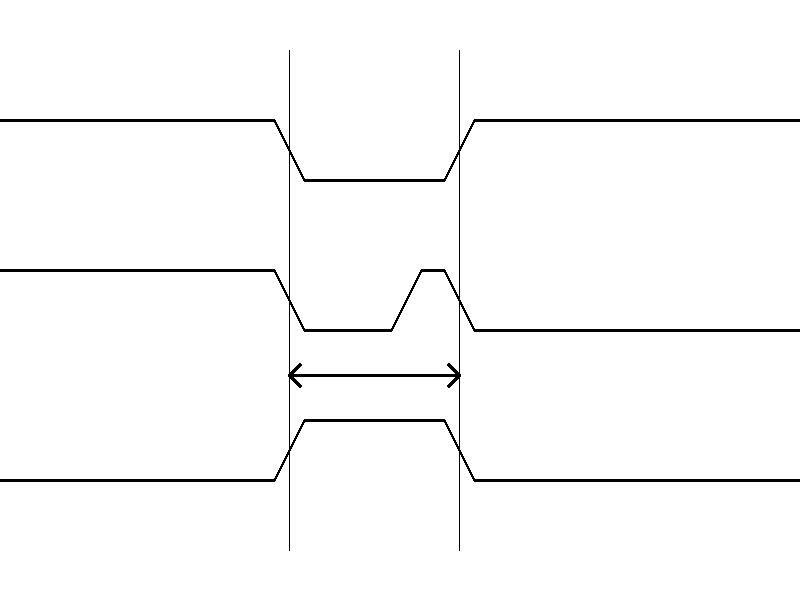double_arrow: (289, 360, 459, 390)
